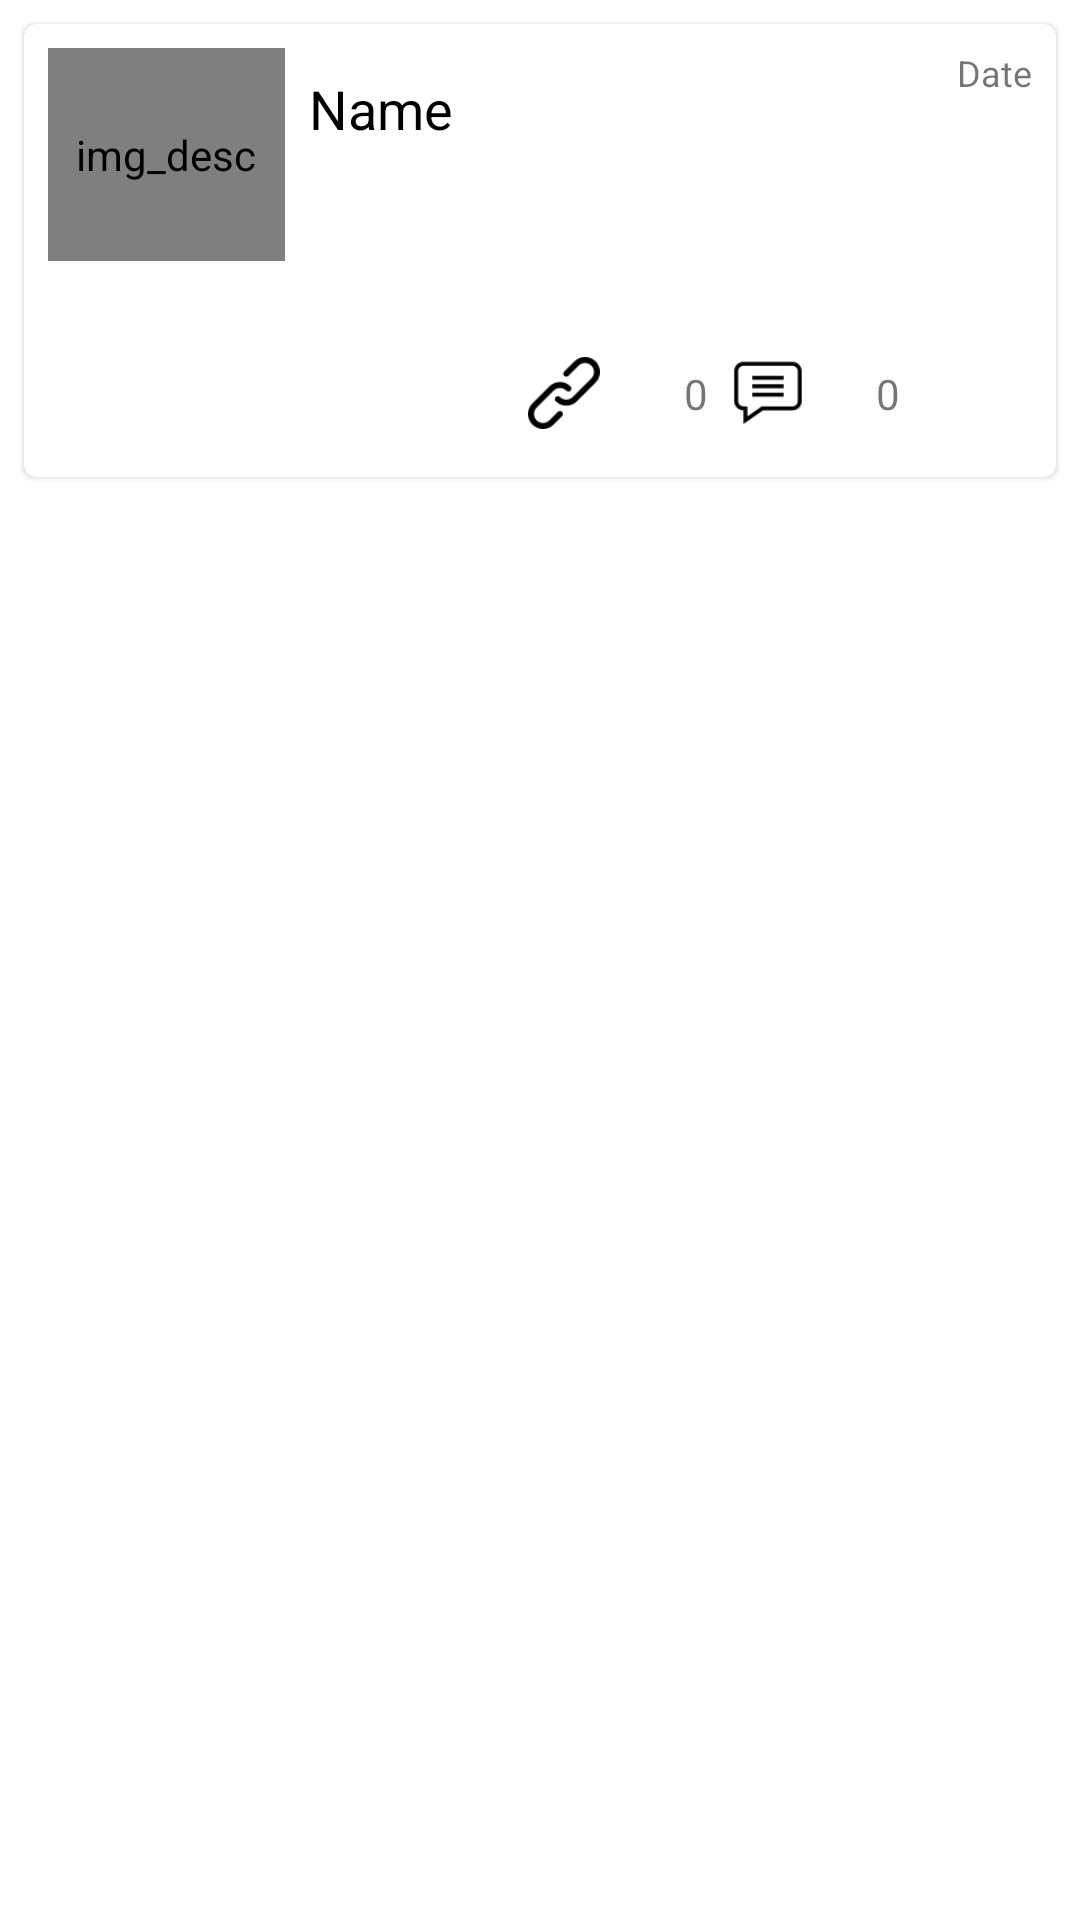

Point at icon controls on the screen. Image size 1080x1920, points as [x,y].
comment: [768,392]
link: [564,393]
